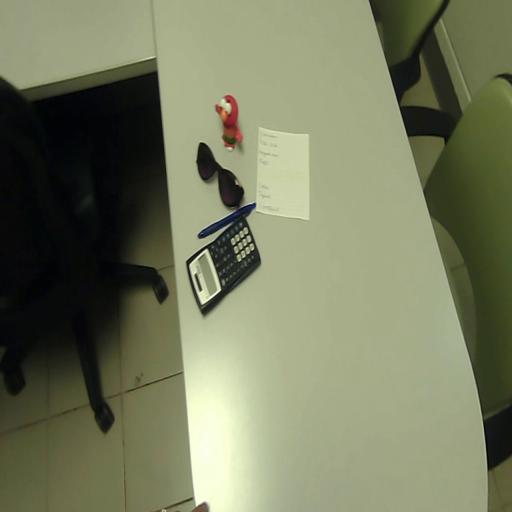pen: (198, 203, 256, 238)
